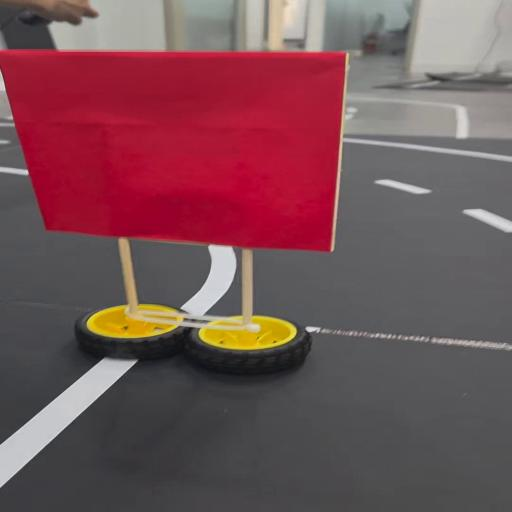Sign_A: (0, 44, 346, 378)
